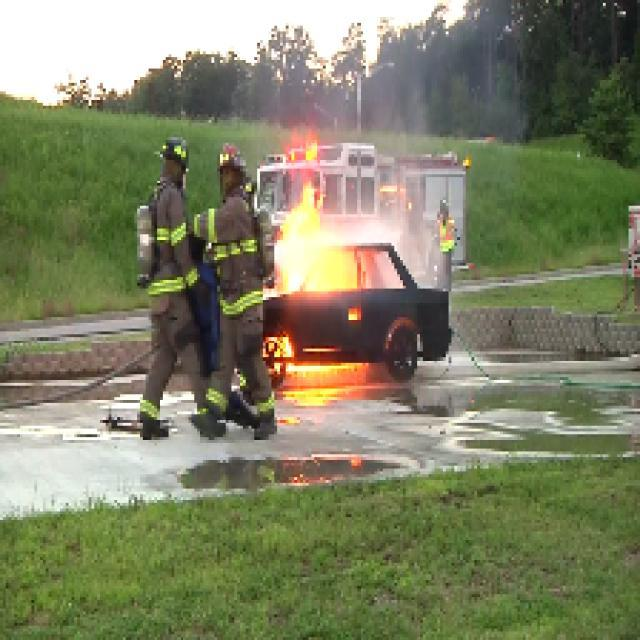Fire: (270, 194, 358, 292)
